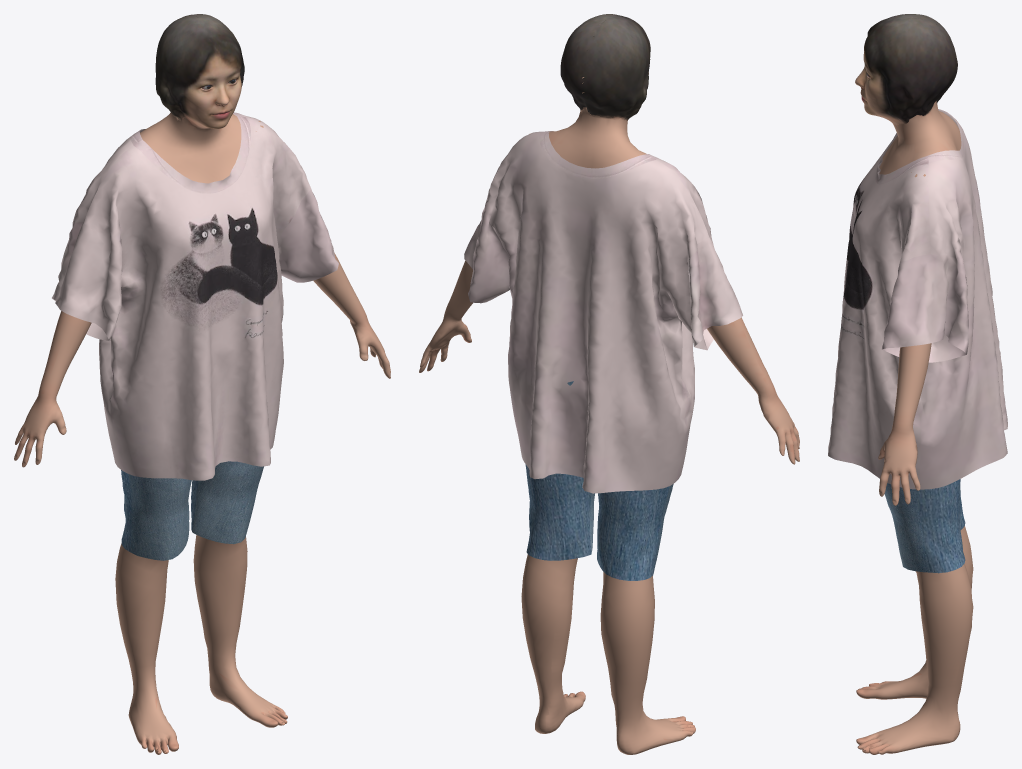
The model's file is XU_Fitted_3XL.fbx.
3 views of the same model, side by side, from view 1: azimuth 30°, elevation 25°; view 2: azimuth 150°, elevation 25°; view 3: azimuth 270°, elevation 25° (orthographic).
Visible parts, largest first — view 1: XU_3XL, model.001, XU_Pants.001; view 2: XU_3XL, model.001, XU_Pants.001; view 3: XU_3XL, model.001, XU_Pants.001.
Boxes of the visible parts, bbox=[...] form: XU_3XL: bbox=[52, 112, 338, 480]; model.001: bbox=[14, 14, 390, 754]; XU_Pants.001: bbox=[121, 461, 263, 560]; XU_3XL: bbox=[464, 131, 742, 493]; model.001: bbox=[419, 14, 799, 754]; XU_Pants.001: bbox=[525, 381, 673, 580]; XU_3XL: bbox=[828, 109, 1007, 489]; model.001: bbox=[855, 14, 973, 754]; XU_Pants.001: bbox=[884, 479, 965, 573].
Bounding box in the file's own units: 9182 × 16642 × 3849.
